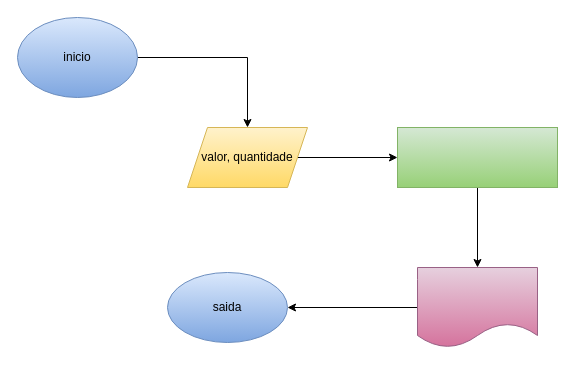
Some shapes in this 575 by 365 pixel diagram are drawn without their labels. Here are the shapes that lost their labels. From the top down, the box of each, then its label:
(396, 126, 558, 188): total<-valor*quantidadde
(416, 266, 538, 348): total
